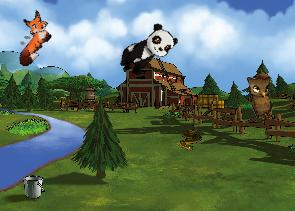fox: (1, 7, 60, 69)
owl: (241, 69, 285, 123)
panda: (114, 19, 180, 82)
